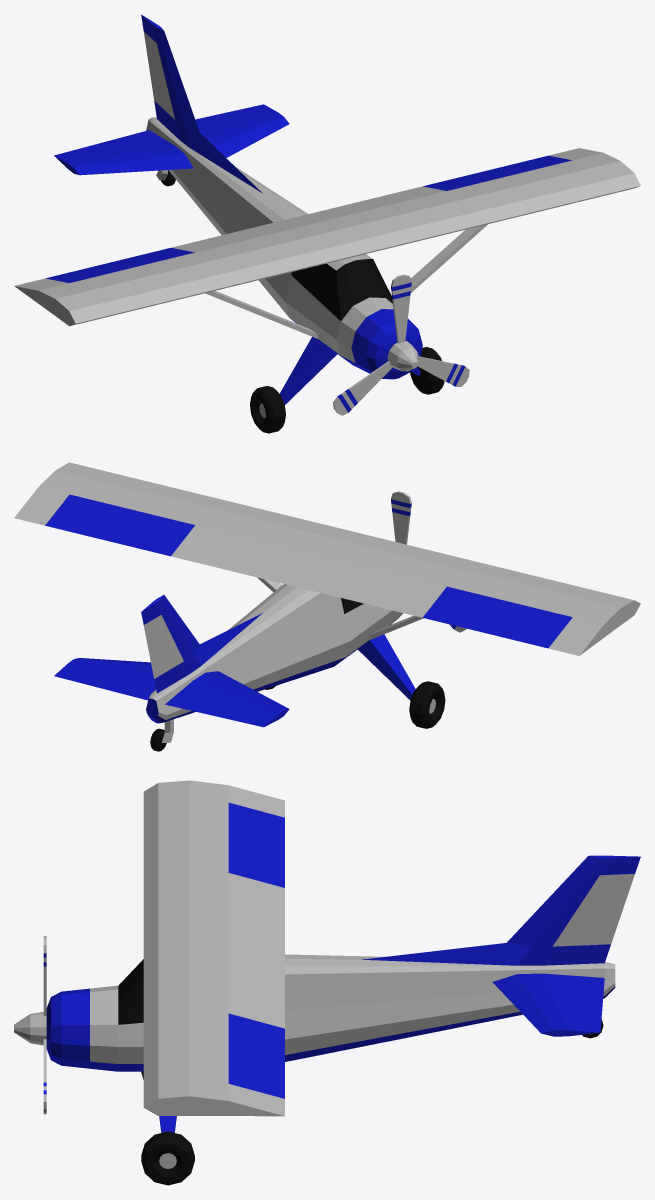
File: 027-airplane-rec.obj
3 renders of one model, top to bottom at view 1: azimuth 30°, elevation 25°; view 2: azimuth 150°, elevation 25°; view 3: azimuth 270°, elevation 25°, orthographic. The views are drawn at different scales.
Parts seen in each view (by area): view 1: Plane.035_Plane, Plane_Circle, Circle.002, Circle.001, Circle.004, Circle.008_Circle.007, Circle.003, Plane.003_Plane.001, Plane.001, Plane.002_Plane.001, Circle.007_Circle.006; view 2: Plane.035_Plane, Plane_Circle, Circle.002, Circle.001, Circle.003, Circle.004, Plane.001, Circle.008_Circle.007; view 3: Plane.035_Plane, Plane_Circle, Circle.001, Circle.002, Circle.004, Circle.007_Circle.006.
Part boxes in pixels (box(x1,y1,x2,y2)): Plane.035_Plane: box(14, 148, 640, 326); Plane_Circle: box(146, 117, 422, 379); Circle.002: box(54, 104, 289, 175); Circle.001: box(141, 14, 262, 193); Circle.004: box(250, 347, 444, 433); Circle.008_Circle.007: box(205, 224, 487, 338); Circle.003: box(279, 336, 420, 404); Plane.003_Plane.001: box(333, 361, 392, 415); Plane.001: box(391, 274, 411, 343); Plane.002_Plane.001: box(417, 356, 469, 386); Circle.007_Circle.006: box(387, 341, 418, 371); Plane.035_Plane: box(14, 462, 640, 655); Plane_Circle: box(146, 584, 403, 723); Circle.002: box(54, 658, 289, 727); Circle.001: box(141, 595, 262, 693); Circle.003: box(358, 634, 415, 700); Circle.004: box(265, 681, 445, 728); Plane.001: box(391, 491, 411, 544); Circle.008_Circle.007: box(257, 577, 423, 640); Plane.035_Plane: box(143, 780, 284, 1116); Plane_Circle: box(46, 954, 615, 1071); Circle.001: box(362, 855, 640, 965); Circle.002: box(492, 973, 604, 1036); Circle.004: box(141, 1071, 194, 1185); Circle.007_Circle.006: box(14, 1012, 46, 1045).
Size of the model in its own units: 10.45 by 4.36 by 8.77.
